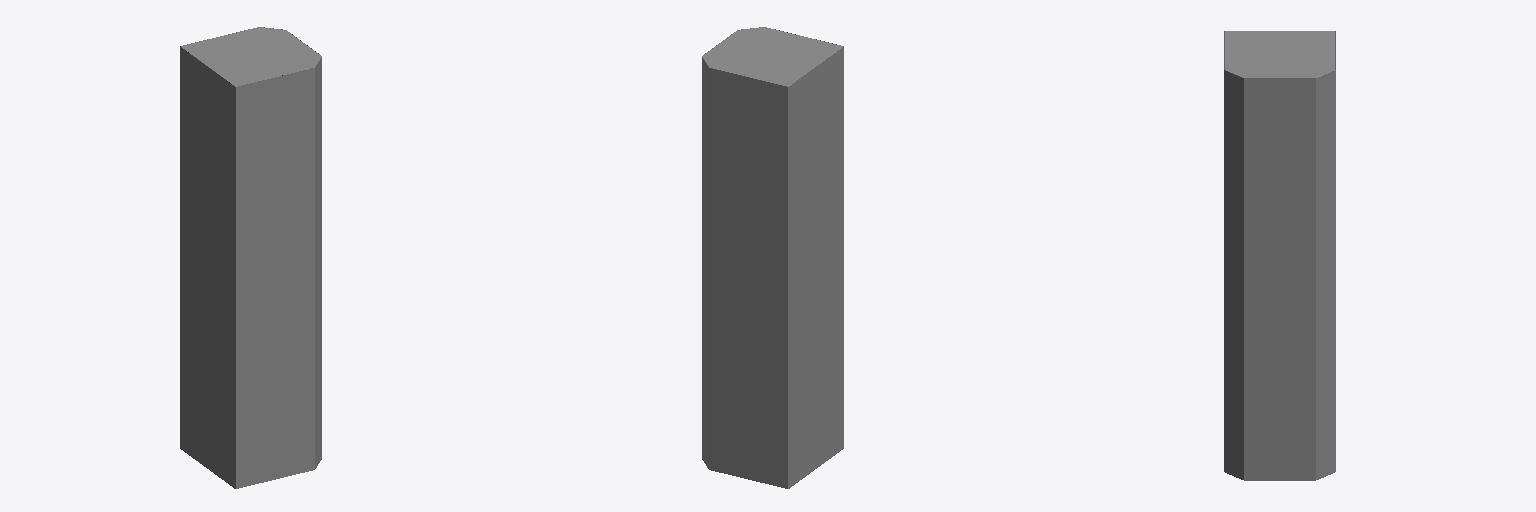
The picture shows the model from 3 angles: view 1: azimuth 30°, elevation 25°; view 2: azimuth 150°, elevation 25°; view 3: azimuth 270°, elevation 25°; orthographic projection.
Parts seen in each view (by area): view 1: Building_Component_08_Emission, Building_Component_08; view 2: Building_Component_08_Emission, Building_Component_08; view 3: Building_Component_08_Emission, Building_Component_08.
Boxes of the visible parts, x1=… form: Building_Component_08_Emission: x1=180, y1=27, x2=321, y2=488; Building_Component_08: x1=180, y1=27, x2=321, y2=86; Building_Component_08_Emission: x1=702, y1=27, x2=843, y2=488; Building_Component_08: x1=702, y1=27, x2=843, y2=86; Building_Component_08_Emission: x1=1224, y1=31, x2=1335, y2=480; Building_Component_08: x1=1225, y1=31, x2=1334, y2=77.
Size of the model in its own units: 10.05 by 40 by 10.05.
Materials: 3 (1 with a texture image).